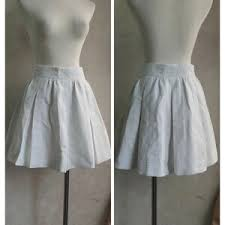C_skirt: (7, 60, 110, 177), (115, 60, 217, 178)
